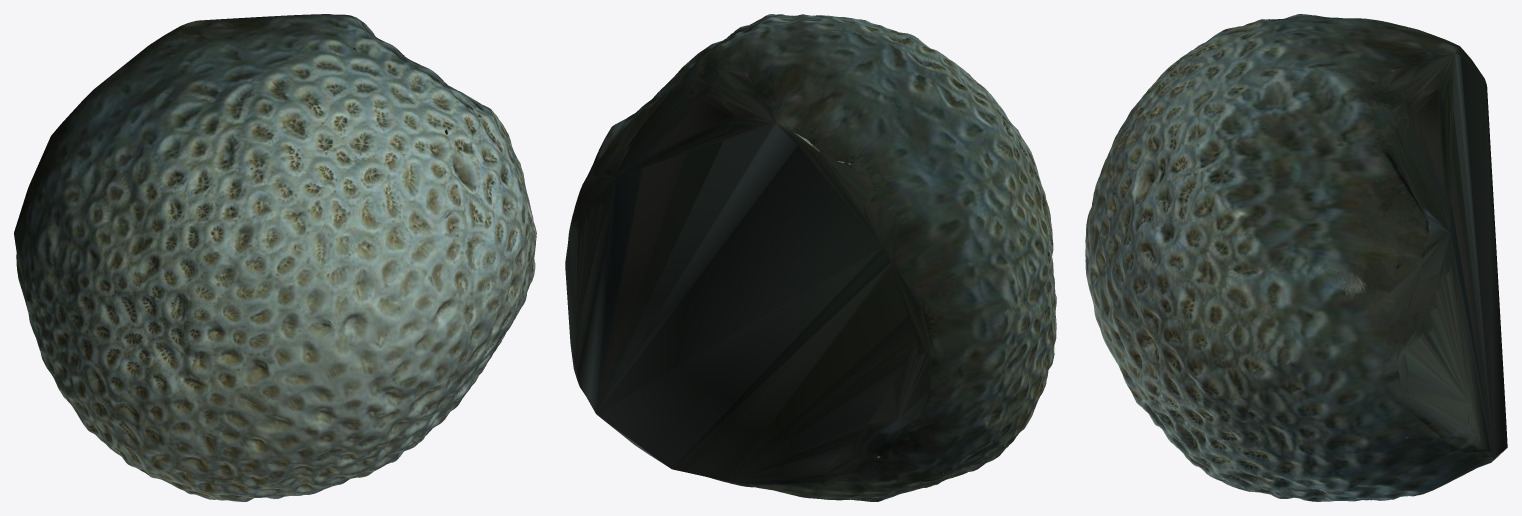
Rendered from CORAL_1-v1.glb.
3 views of the same model, side by side, from view 1: azimuth 30°, elevation 25°; view 2: azimuth 150°, elevation 25°; view 3: azimuth 270°, elevation 25° (orthographic). The views are drawn at different scales.
Visible parts, largest first — view 1: Node1; view 2: Node1; view 3: Node1.
Boxes of the visible parts, box(x1,y1,x2,y2) form: Node1: box(14, 14, 536, 501); Node1: box(565, 14, 1056, 501); Node1: box(1085, 14, 1507, 501).
Bounding box in the file's own units: 62.54 × 58.6 × 49.93.
1 material, 1 textured.
